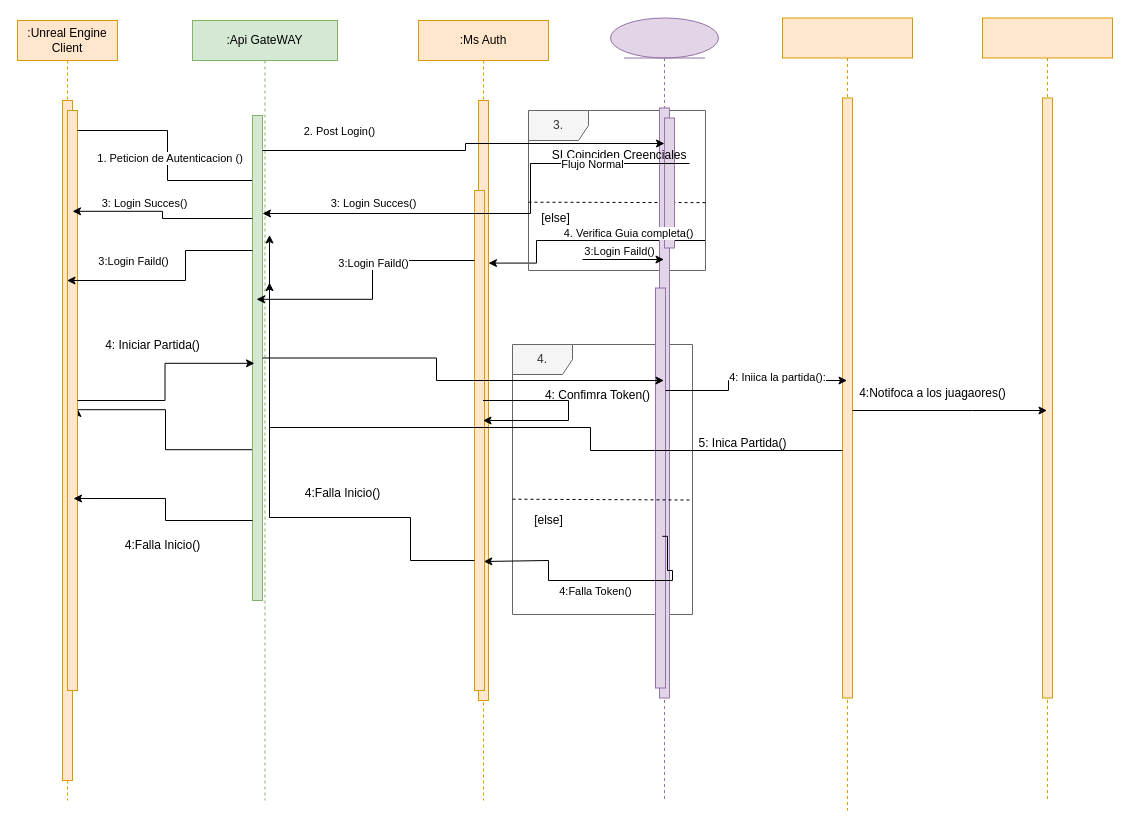
The diagram is 1130 pixels wide and 828 high, and some of its shapes have lost their labels. Here are the shapes that lost their labels. From the top down, the box of each, then its label:
(610, 17, 718, 800): RDS
(782, 17, 912, 810): :GameLocis Ms
(982, 17, 1112, 800): :Notificaciones
